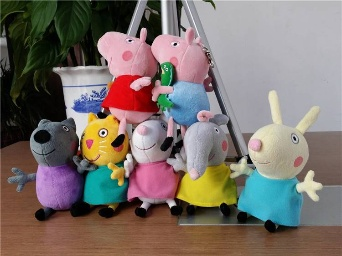Peppa: (95, 29, 160, 123)
